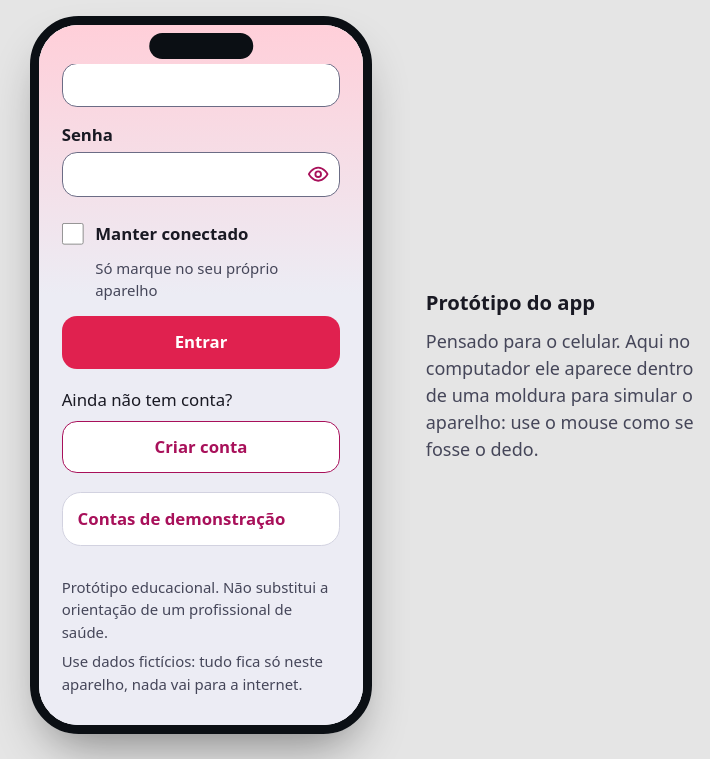
Test case: contas de demonstração › mostram só as contas do papel da aba
The width and height of the screenshot is (710, 759).
(page scrolled)
Click the heading "Contas de demonstração": (182, 518) [78, 507, 285, 530]
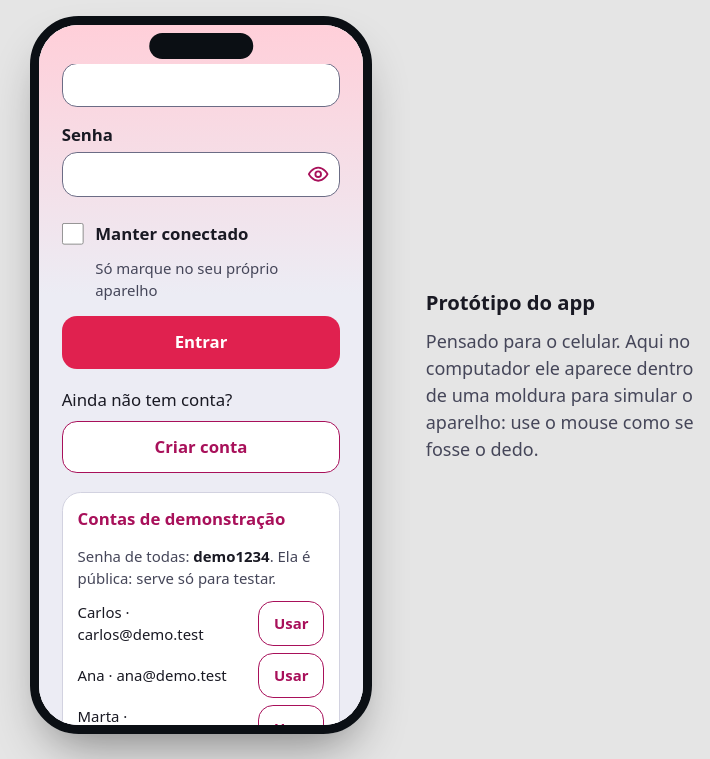
Expected: the button "Usar" next to "Carlos · carlos@demo.test" is shown, [258, 601, 324, 646]
